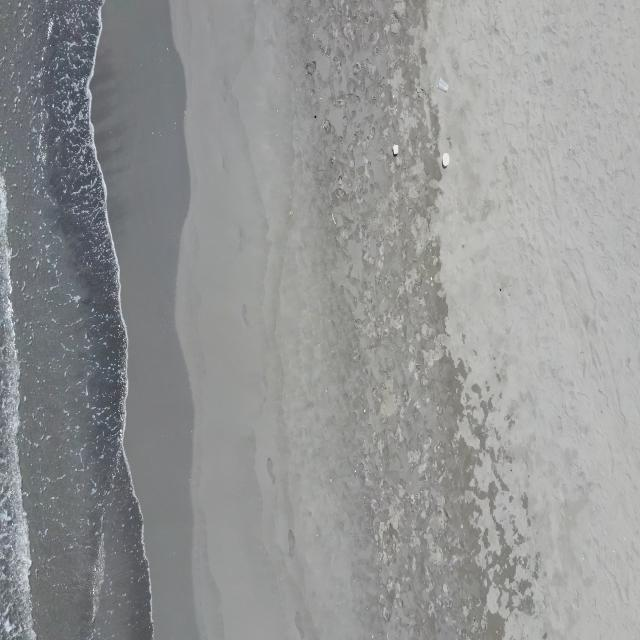take-away-containers: (442, 153, 450, 167), (393, 144, 399, 156)
takeaway-cup: (438, 76, 450, 93)
